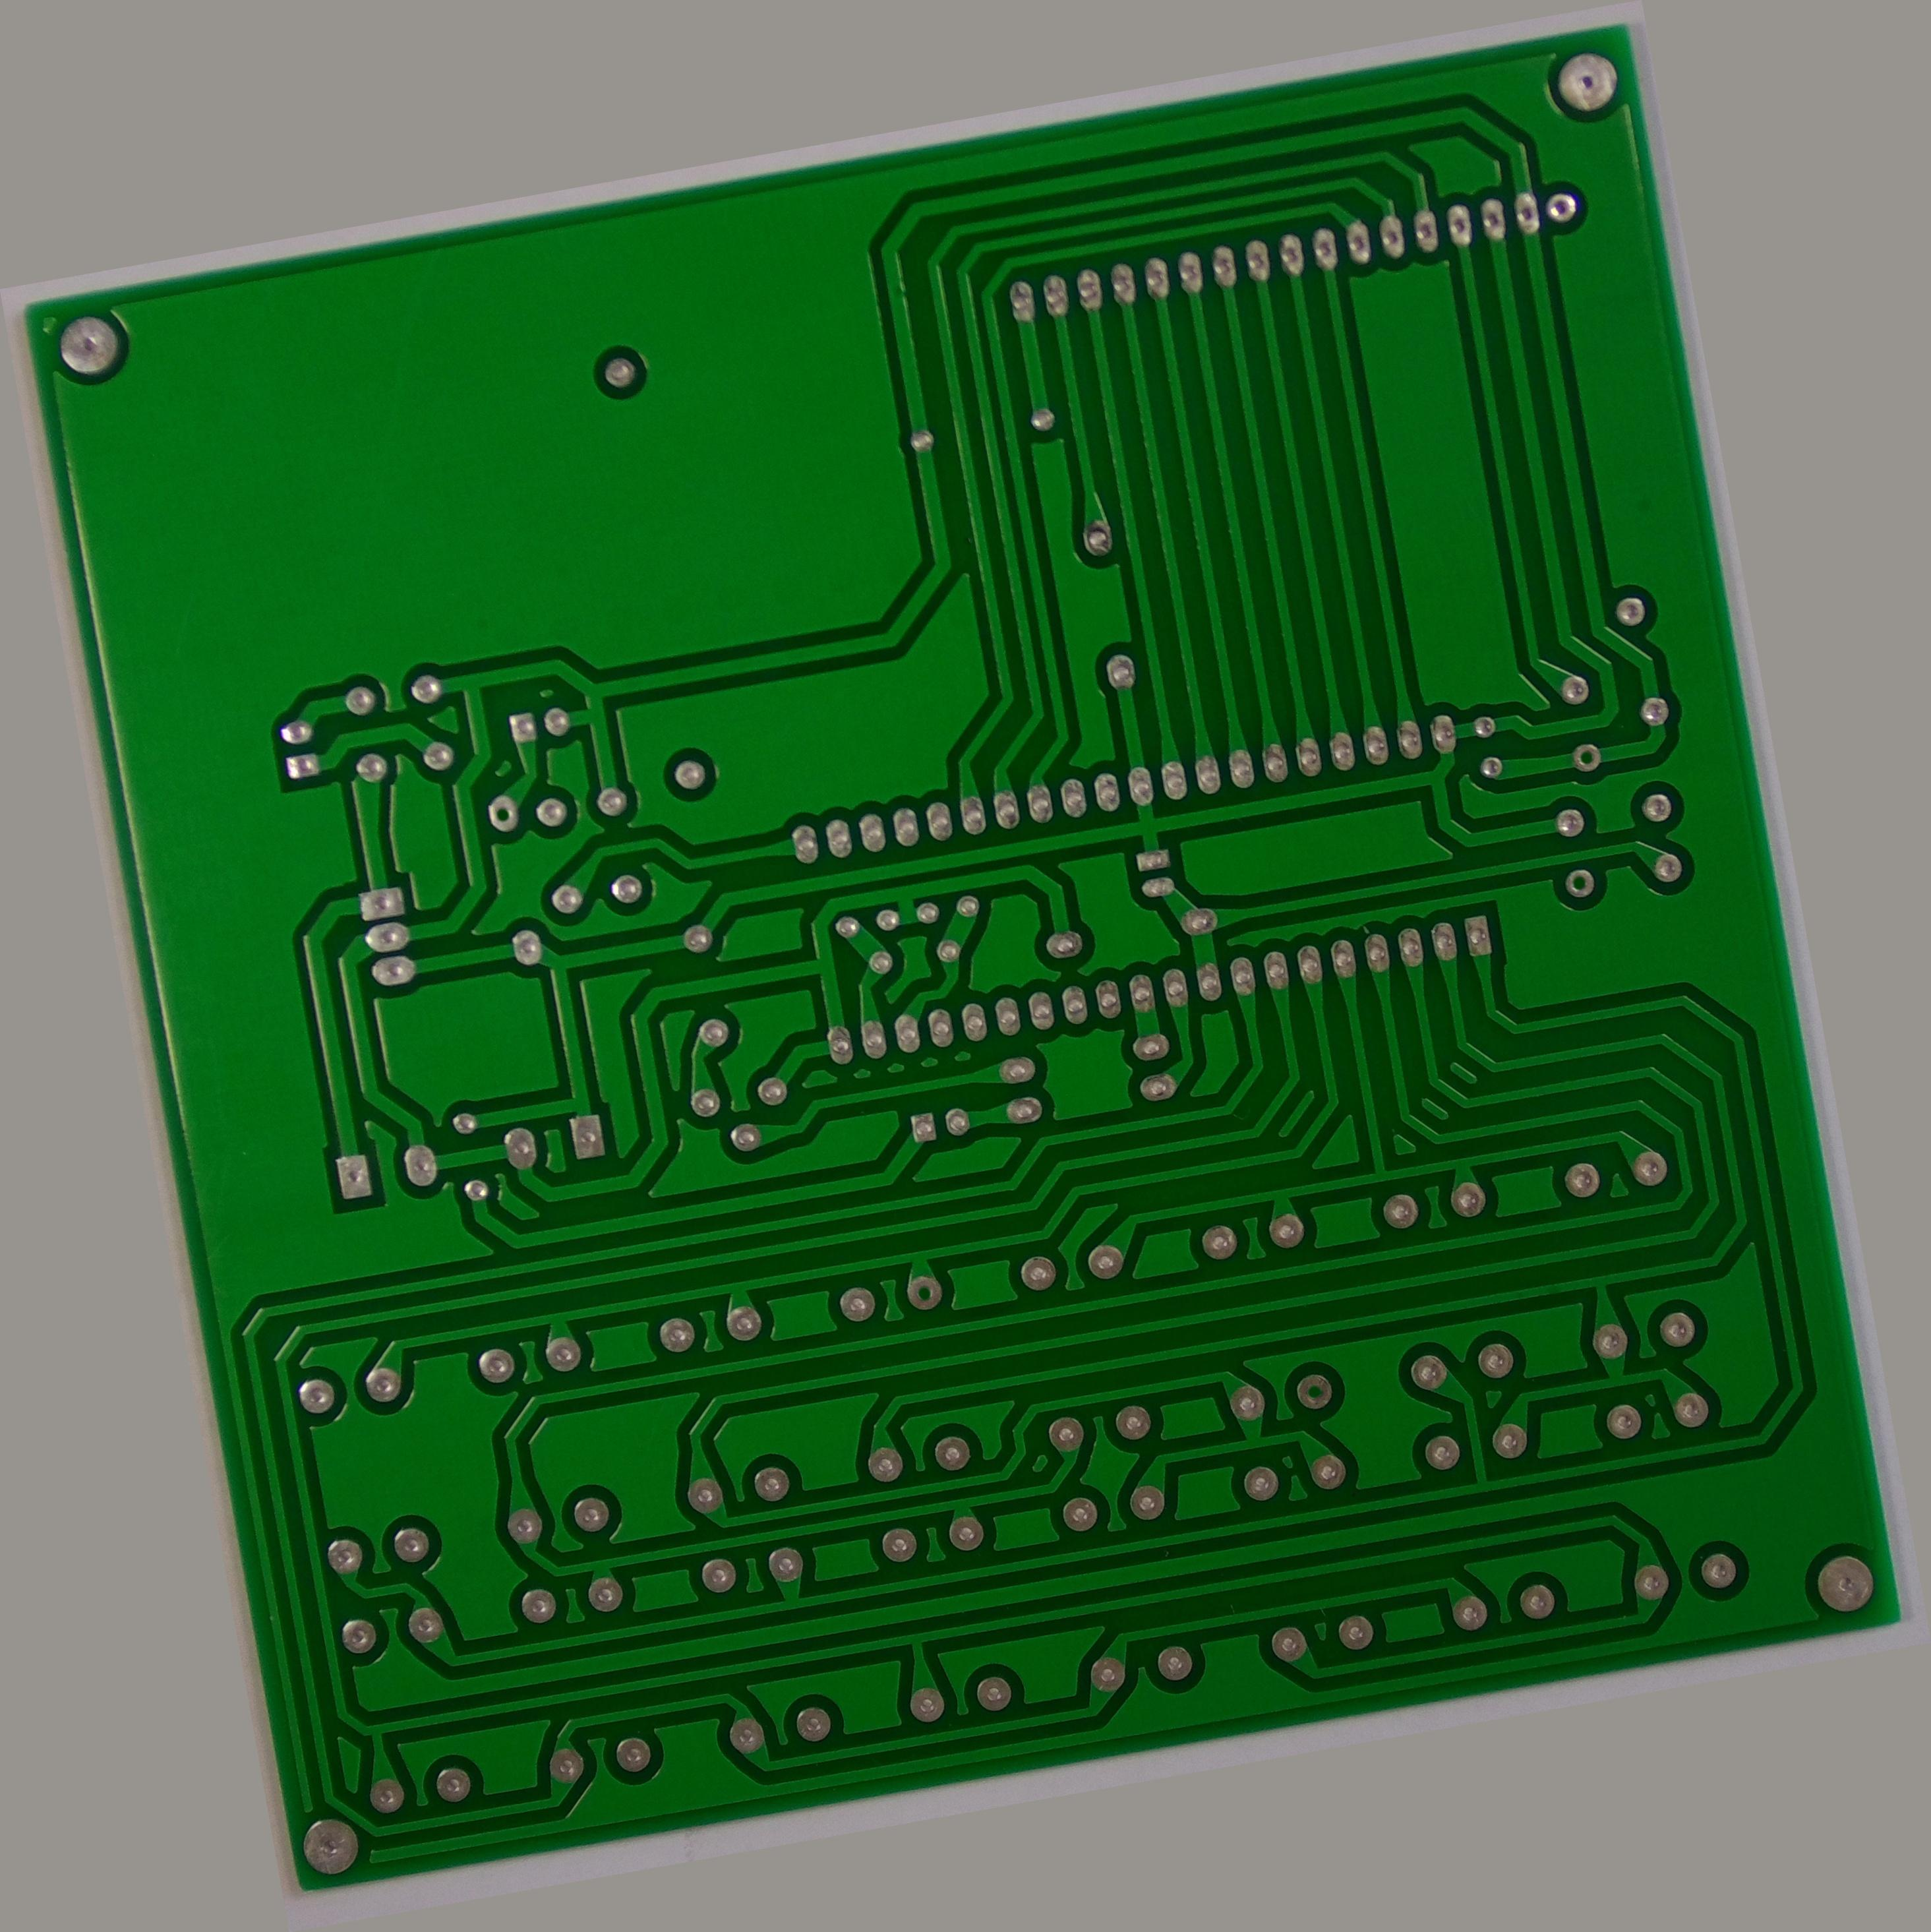missing_hole: (1254, 1491, 1301, 1552), (831, 1307, 875, 1355), (1660, 973, 1705, 1021), (447, 678, 492, 724), (1694, 832, 1736, 874)
